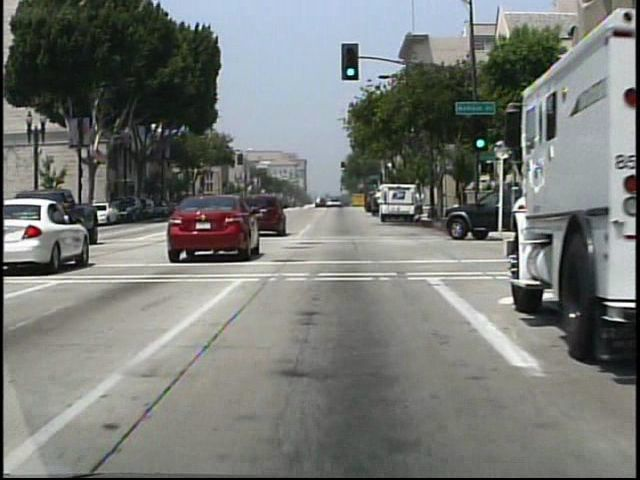person: (414, 188, 426, 221)
